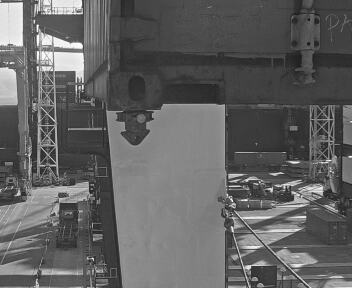twist_lock_2: (107, 108, 163, 154)
